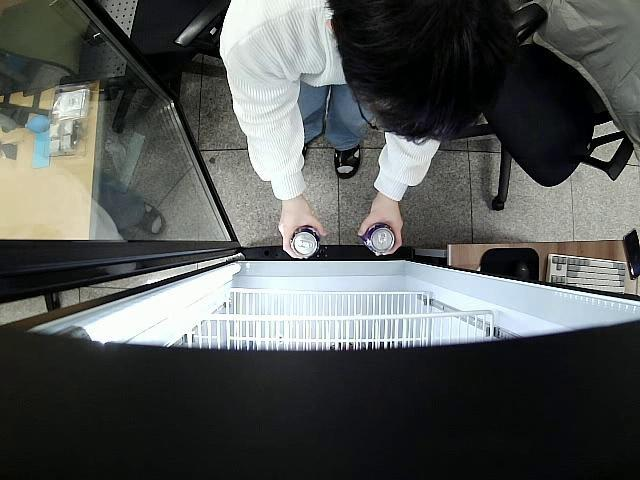14_welchsGrape: (290, 225, 322, 256), (364, 224, 396, 255)
